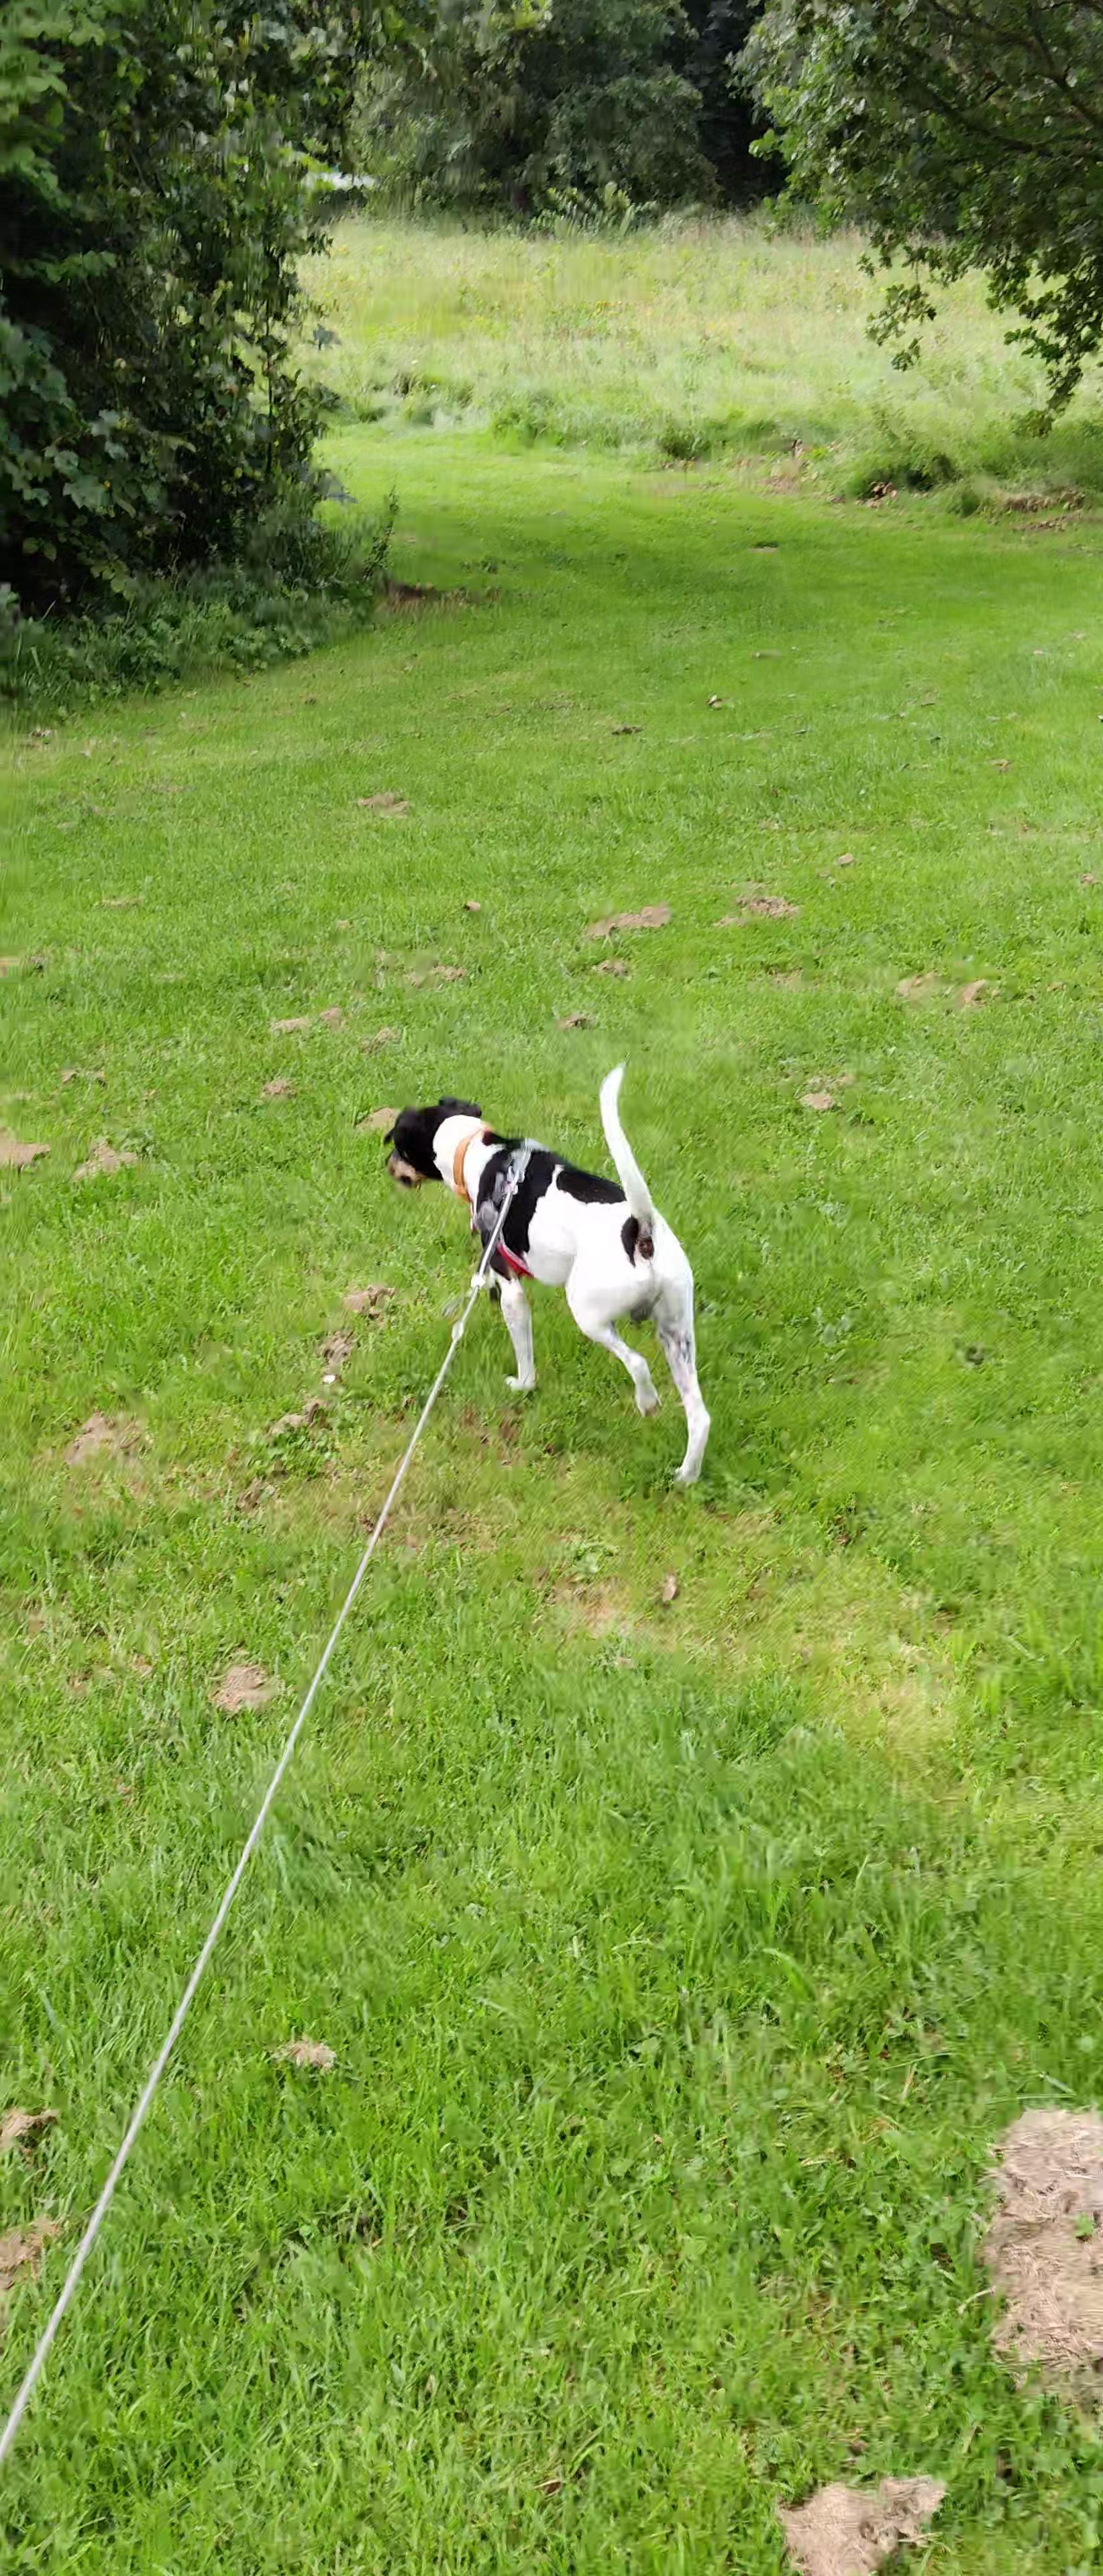Dog: (376, 1050, 722, 1493)
